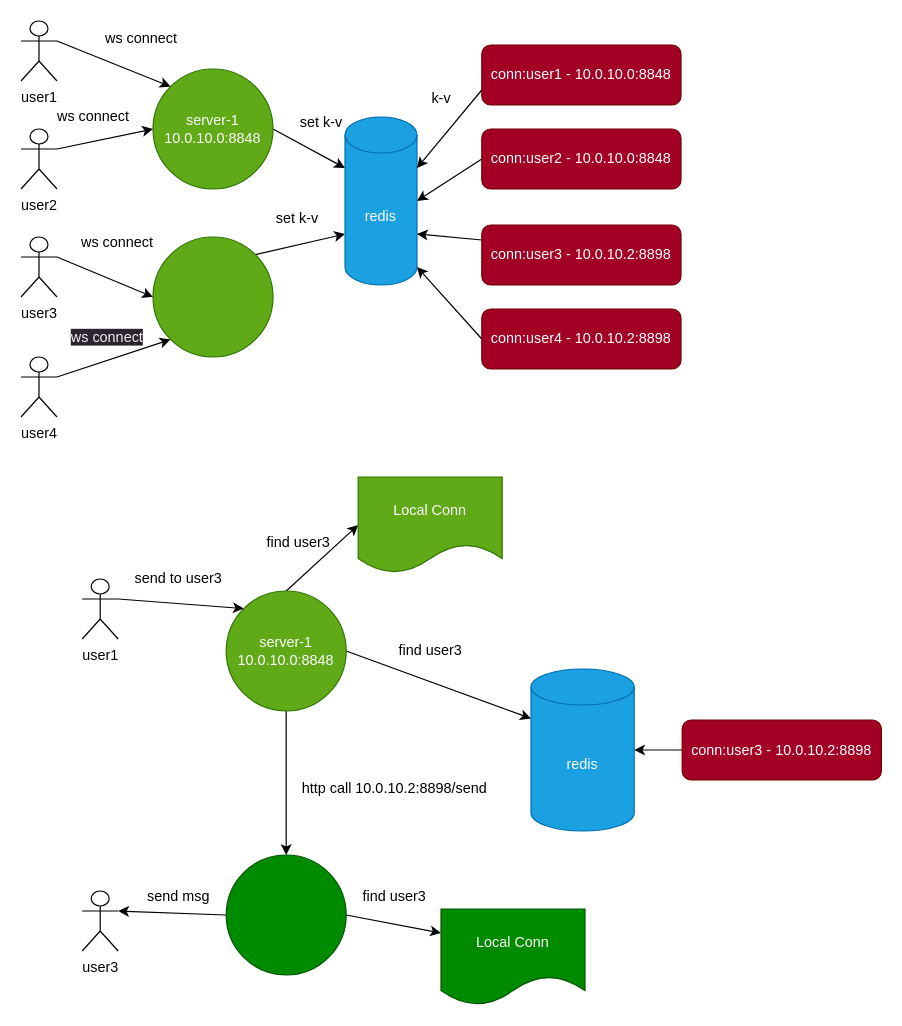
The diagram is 902 pixels wide and 1026 high, and some of its shapes have lost their labels. Each missing label, with the centre of its shape:
server-1 10.0.10.2:8898: point (285, 914)
server-2 10.0.10.2:8898: point (212, 296)
